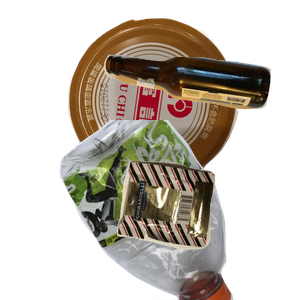glass: (101, 52, 300, 154)
metal: (66, 15, 297, 193)
plastic: (57, 120, 293, 300)
trash: (115, 158, 300, 300)
